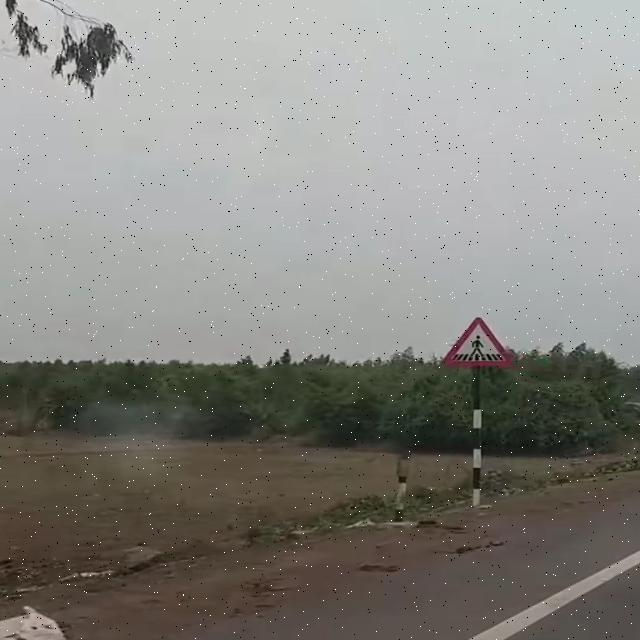Pedestrain_crossing: (438, 318, 518, 369)
